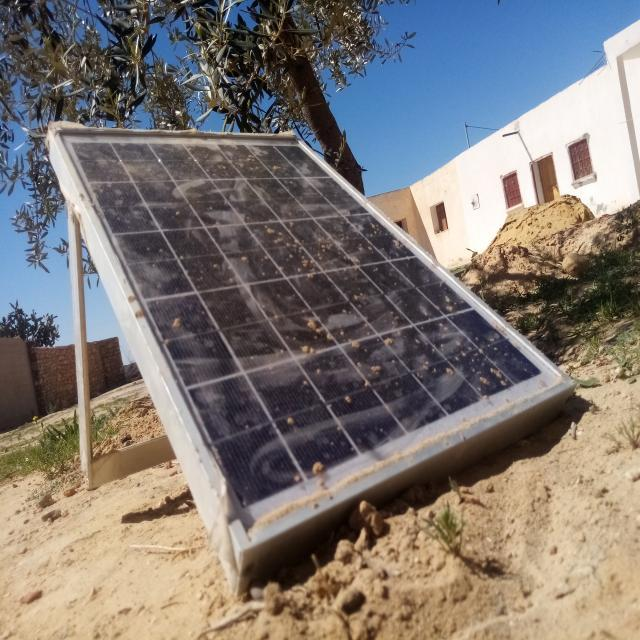faulty: (52, 129, 575, 547)
